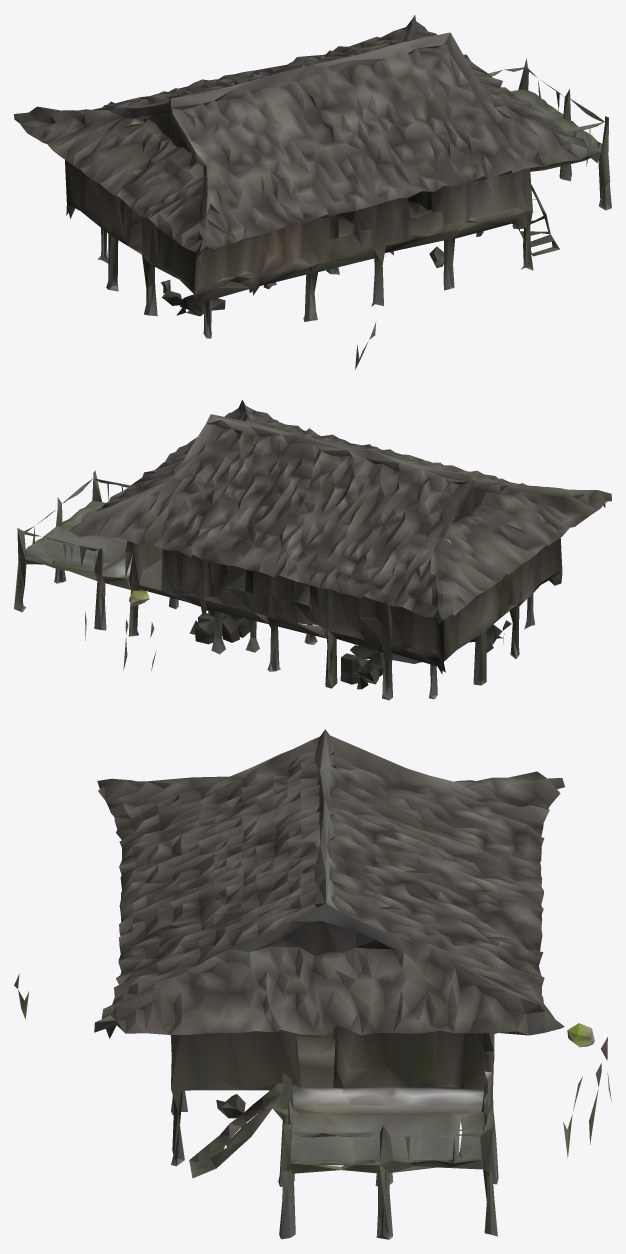
The model's file is bq_stilt.vc.glb.
The picture shows the model from 3 angles, top to bottom: view 1: azimuth 30°, elevation 25°; view 2: azimuth 150°, elevation 25°; view 3: azimuth 270°, elevation 25°; orthographic projection. The views are drawn at different scales.
Visible parts, largest first — view 1: bq_stilt; view 2: bq_stilt; view 3: bq_stilt.
Boxes of the visible parts, box(x1,y1,x2,y2) form: bq_stilt: box(14, 15, 611, 369); bq_stilt: box(14, 400, 611, 700); bq_stilt: box(14, 729, 611, 1239).
Size of the model in its own units: 1.89 by 0.7411 by 1.6.
